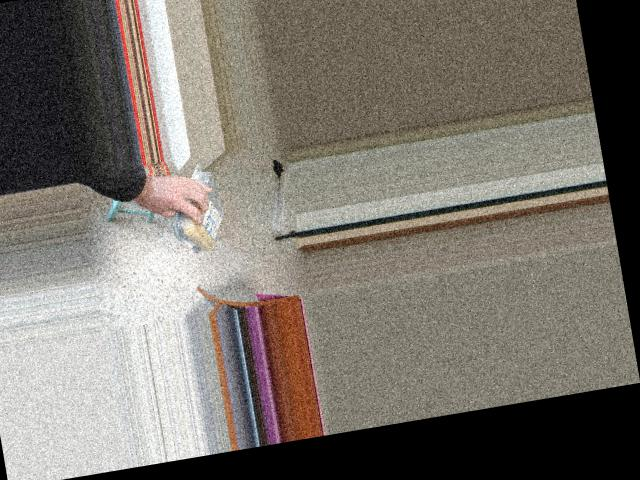cheese: (172, 162, 228, 254)
